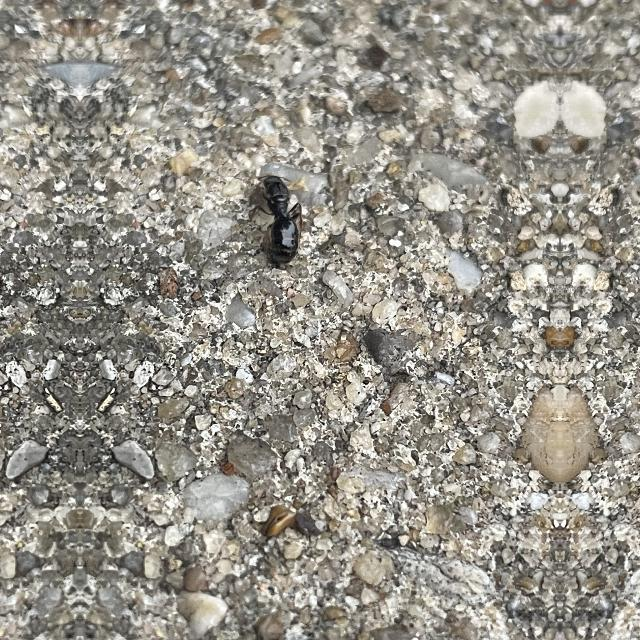Tetramorium: (224, 148, 322, 276)
